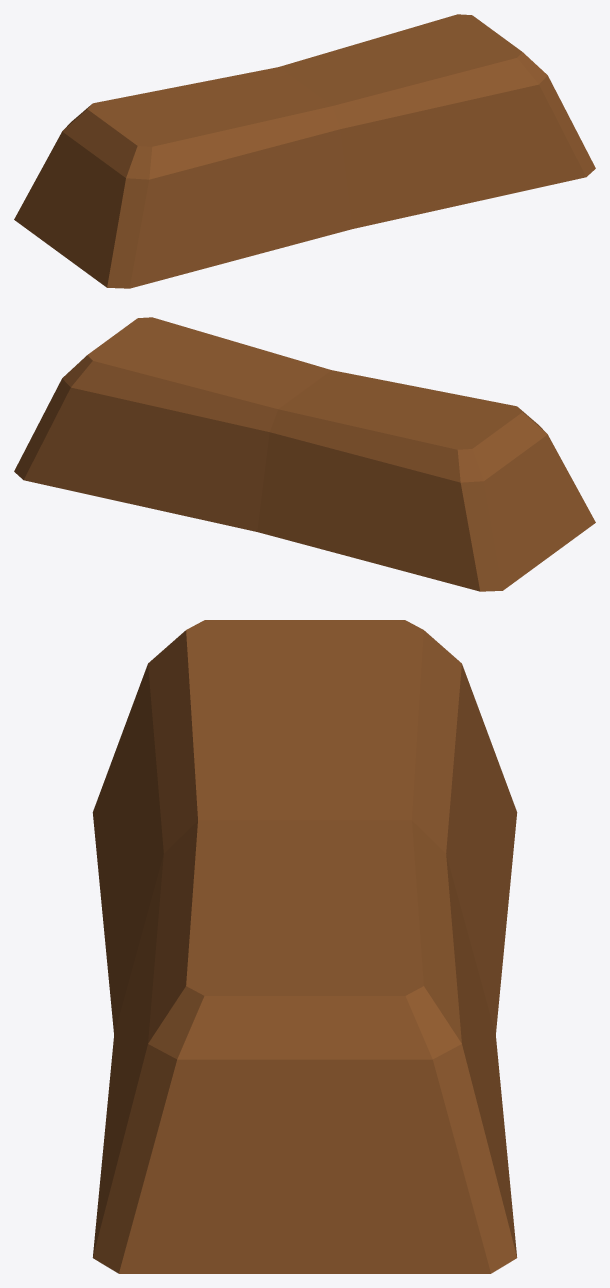
The model's file is CopperIngotA.fbx.
3 renders of one model, top to bottom at view 1: azimuth 30°, elevation 25°; view 2: azimuth 150°, elevation 25°; view 3: azimuth 270°, elevation 25°, orthographic. The views are drawn at different scales.
Visible parts, largest first — view 1: CopperIngotA; view 2: CopperIngotA; view 3: CopperIngotA.
Boxes of the visible parts, left/top/right/bottom form: CopperIngotA: left=14, top=14, right=595, bottom=288; CopperIngotA: left=14, top=317, right=595, bottom=591; CopperIngotA: left=92, top=620, right=517, bottom=1273.
Bounding box in the file's own units: 64.34 × 14.28 × 24.19.
